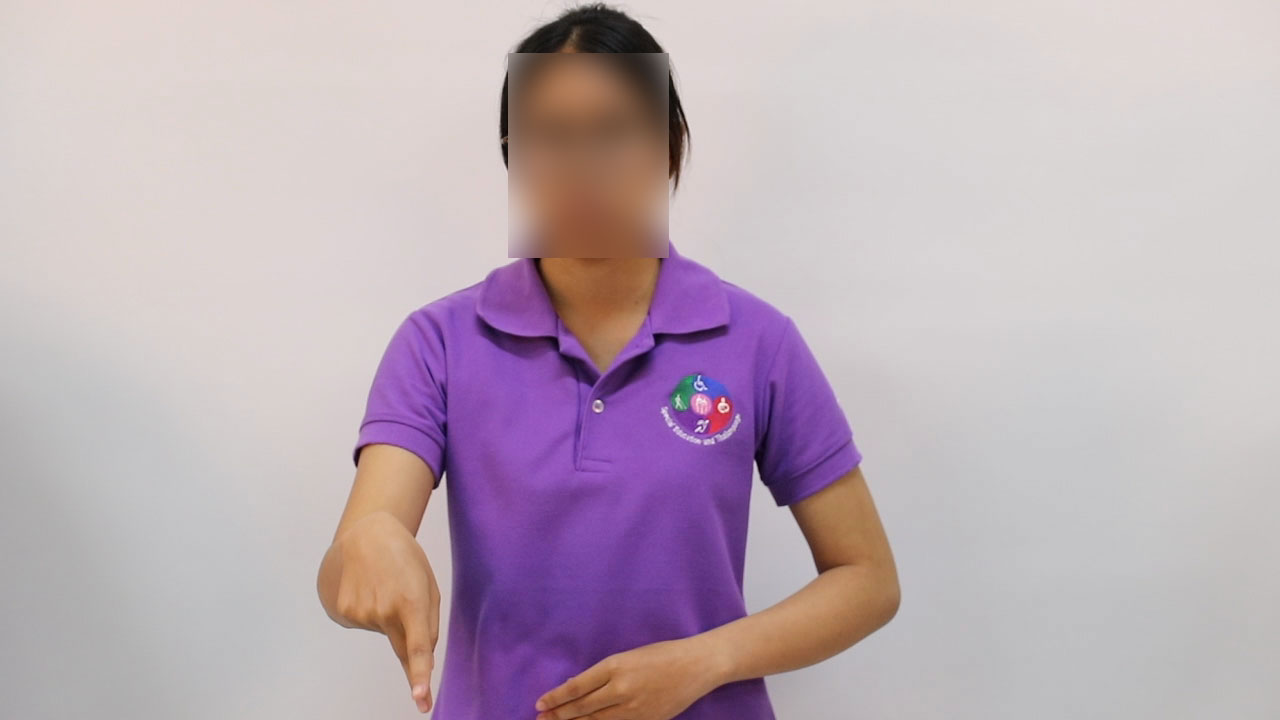por: (328, 509, 450, 715)
